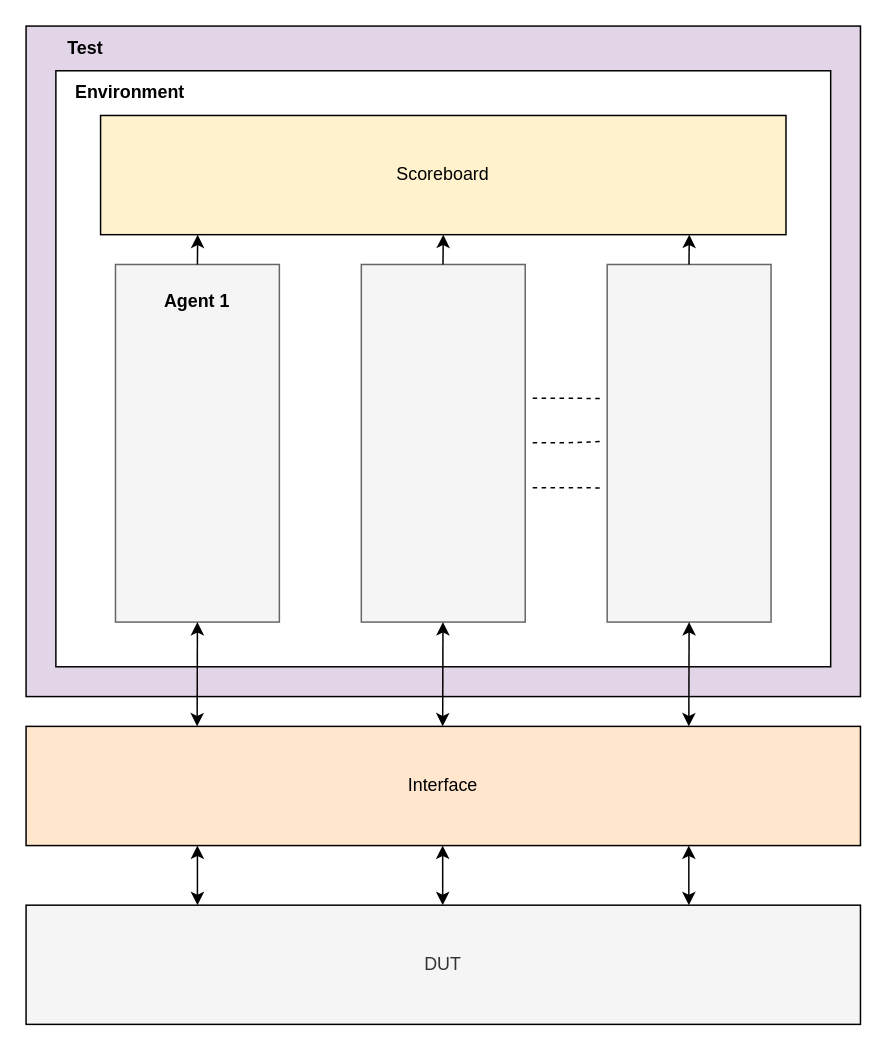
The diagram is 887 pixels wide and 1050 high, and some of its shapes have lost their labels. Here are the shapes that lost their labels. From the top down, the box of each, then its label:
(360, 263, 525, 622): Agent 2
(606, 263, 771, 622): Agent n
